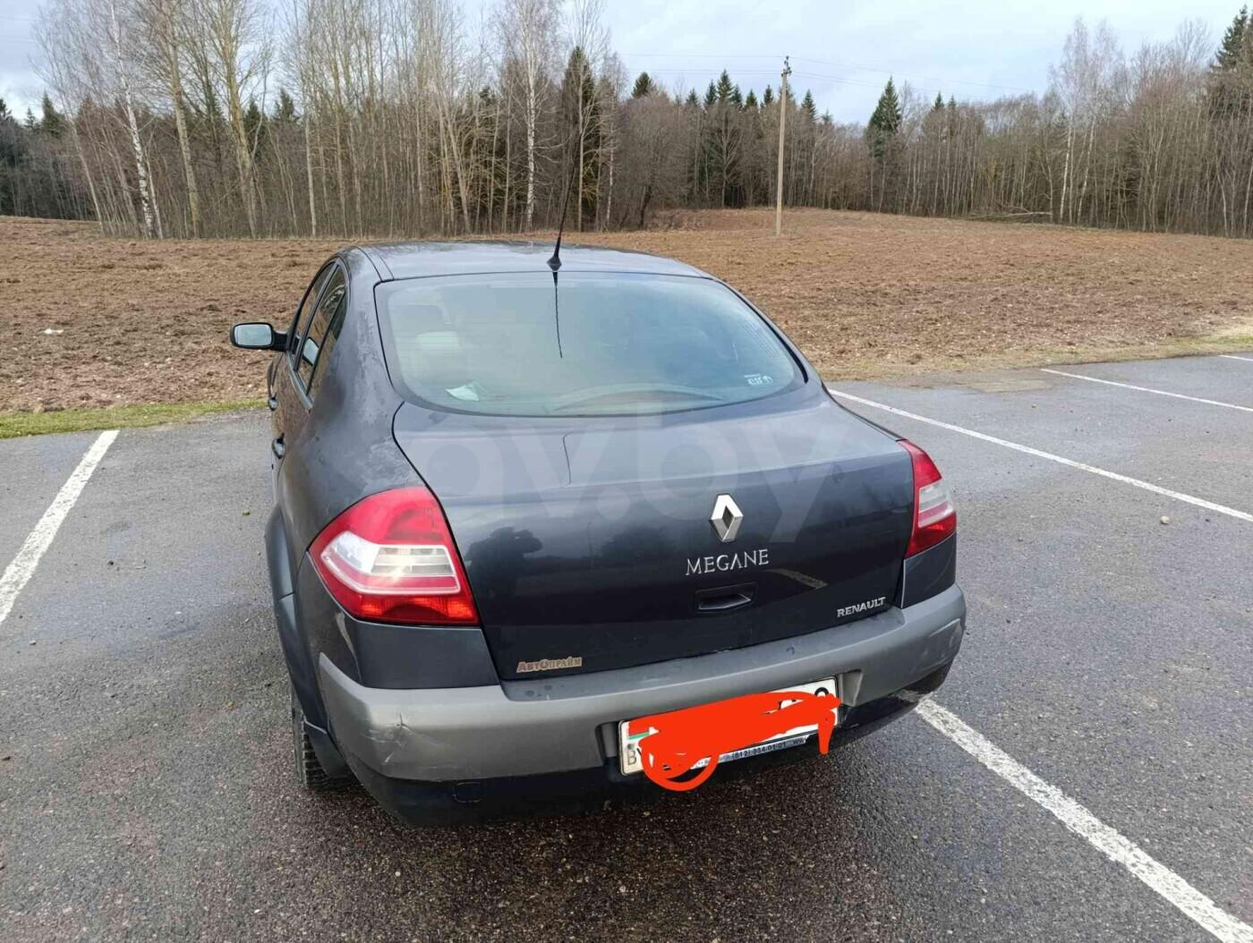Megane_2005-2009: (230, 234, 992, 858)
